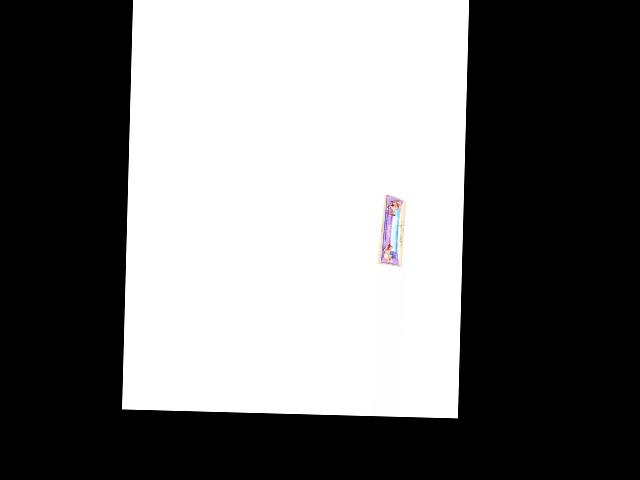chocolate: (377, 190, 403, 266)
